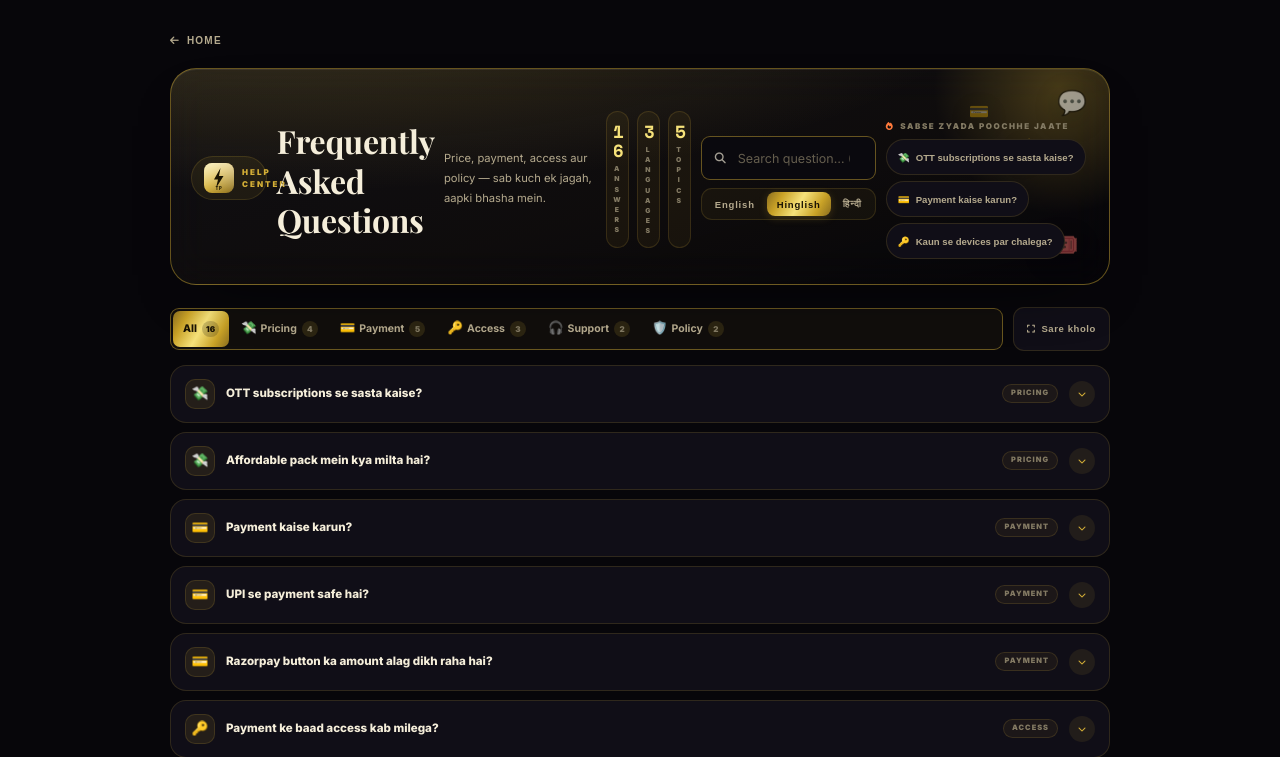
Test: FAQ page v2 › jumps to a popular question and opens it
Click the 1st button with class "fx-pill" at (986, 157), box [886,139,1086,175]
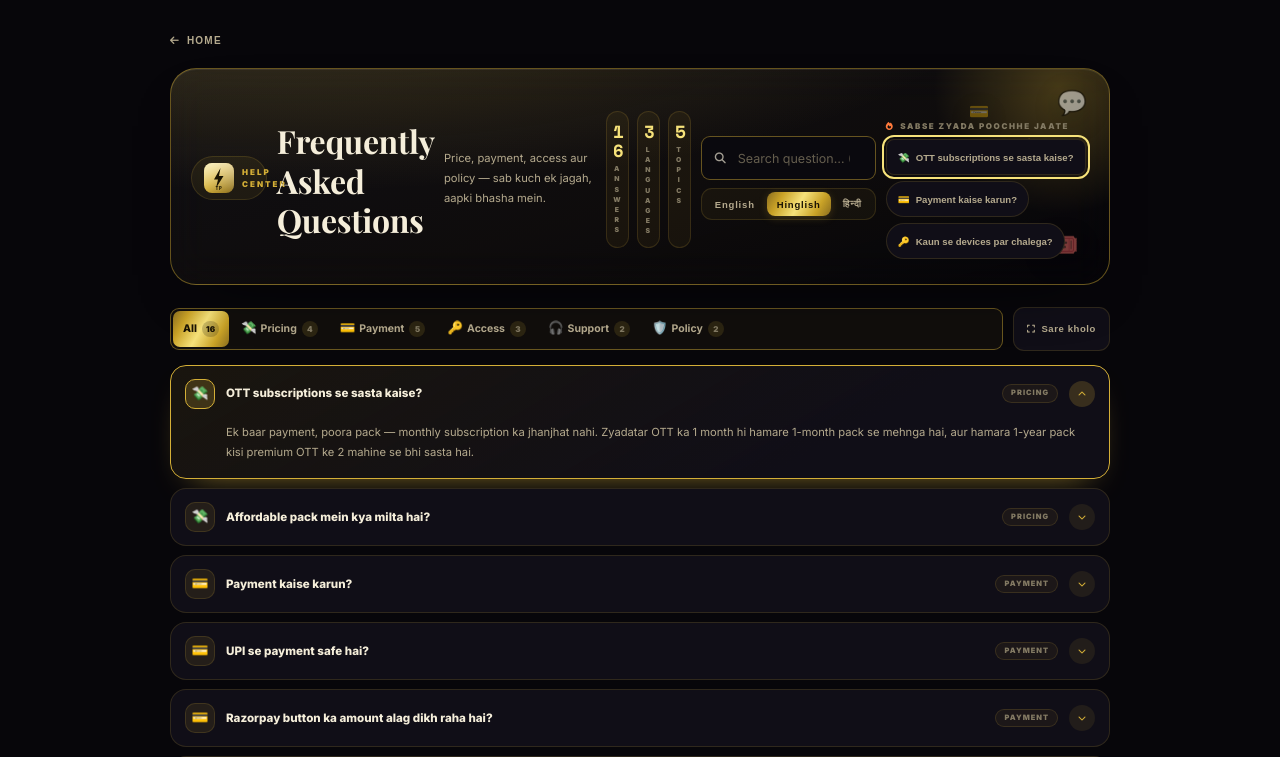
Now the button with id "faq-btn-faq-price" is expanded, box [171,366,1109,422]
